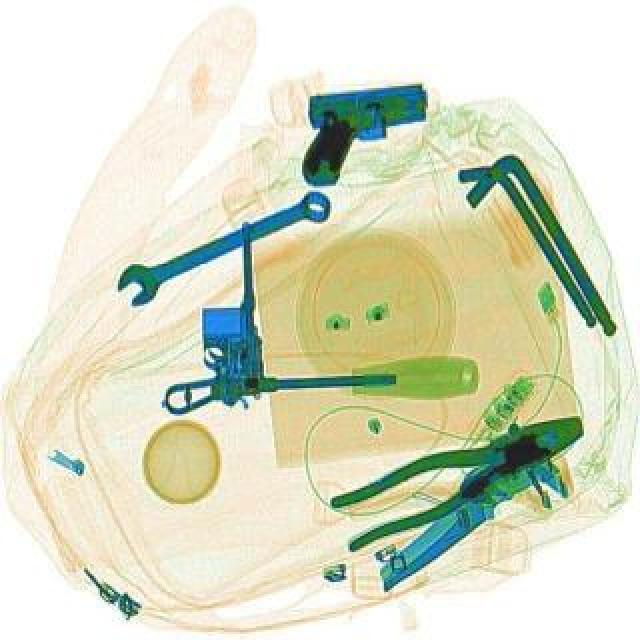gun: (158, 220, 262, 414), (300, 80, 430, 188)
scissors: (106, 180, 338, 312)
wrench: (324, 394, 598, 554)
